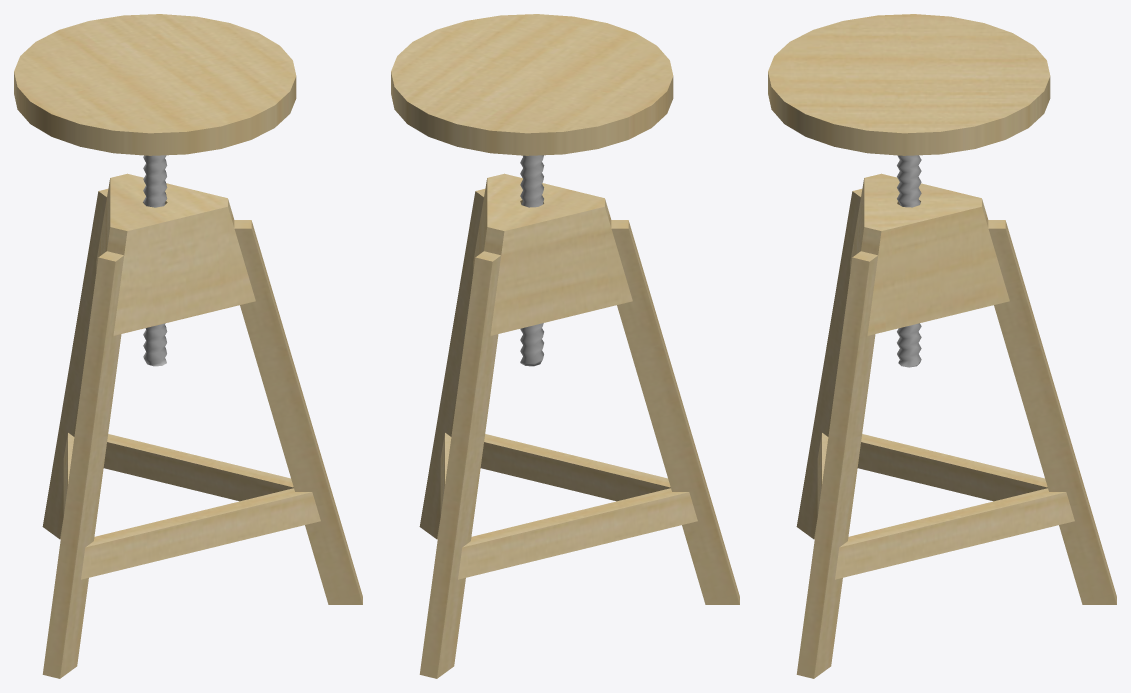
The model's file is bar_stool.obj.
3 renders of one model, left to right at view 1: azimuth 30°, elevation 25°; view 2: azimuth 150°, elevation 25°; view 3: azimuth 270°, elevation 25°, orthographic.
Parts seen in each view (by area): view 1: base_1, sweethome3d_opening_on_rail_1_seat_3, sweethome3d_opening_on_rail_1_twist_4; view 2: base_1, sweethome3d_opening_on_rail_1_seat_3, sweethome3d_opening_on_rail_1_twist_4; view 3: base_1, sweethome3d_opening_on_rail_1_seat_3, sweethome3d_opening_on_rail_1_twist_4.
Boxes of the visible parts, bbox=[...] form: base_1: bbox=[42, 173, 362, 678]; sweethome3d_opening_on_rail_1_seat_3: bbox=[14, 14, 296, 155]; sweethome3d_opening_on_rail_1_twist_4: bbox=[143, 155, 167, 366]; base_1: bbox=[419, 173, 739, 678]; sweethome3d_opening_on_rail_1_seat_3: bbox=[391, 14, 673, 155]; sweethome3d_opening_on_rail_1_twist_4: bbox=[520, 155, 544, 366]; base_1: bbox=[796, 173, 1116, 678]; sweethome3d_opening_on_rail_1_seat_3: bbox=[768, 14, 1050, 155]; sweethome3d_opening_on_rail_1_twist_4: bbox=[897, 155, 921, 367].
Bounding box in the file's own units: 44.5 × 70 × 41.99.
